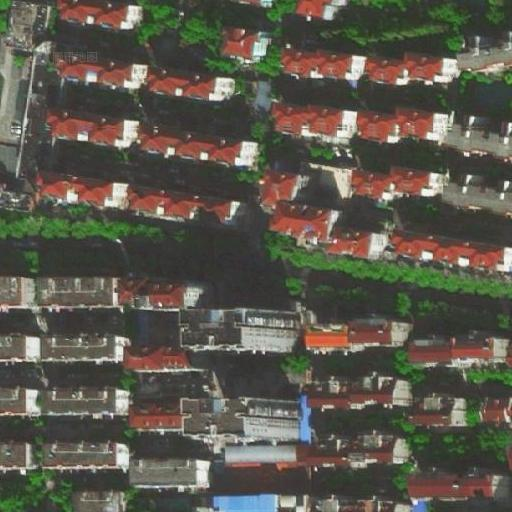building: (11, 50, 61, 184), (246, 171, 339, 243), (178, 396, 311, 444), (179, 308, 311, 356), (128, 188, 245, 233), (394, 231, 511, 274), (146, 124, 259, 168), (63, 50, 152, 92), (37, 277, 129, 314), (51, 109, 137, 148), (43, 173, 132, 209), (160, 65, 236, 104), (352, 166, 440, 199), (312, 373, 401, 405), (414, 337, 512, 366), (312, 318, 410, 347), (445, 110, 512, 152), (445, 175, 512, 217), (418, 467, 508, 498), (358, 110, 443, 142), (367, 56, 459, 84), (334, 436, 415, 467), (222, 440, 331, 463), (281, 110, 355, 143), (459, 25, 511, 71), (45, 385, 127, 414), (136, 277, 208, 310), (47, 438, 126, 468), (130, 458, 207, 488), (330, 224, 390, 262), (210, 491, 313, 512), (289, 53, 361, 83), (51, 331, 127, 359), (6, 2, 50, 50), (414, 398, 478, 429), (220, 26, 274, 62), (67, 1, 140, 27), (318, 492, 410, 511), (136, 353, 203, 378), (76, 490, 127, 512), (0, 332, 43, 358), (469, 73, 512, 97), (478, 395, 511, 426), (0, 385, 37, 412), (249, 78, 274, 114), (0, 273, 28, 304), (0, 440, 32, 466), (0, 181, 26, 207), (408, 497, 430, 512), (207, 453, 222, 468)
